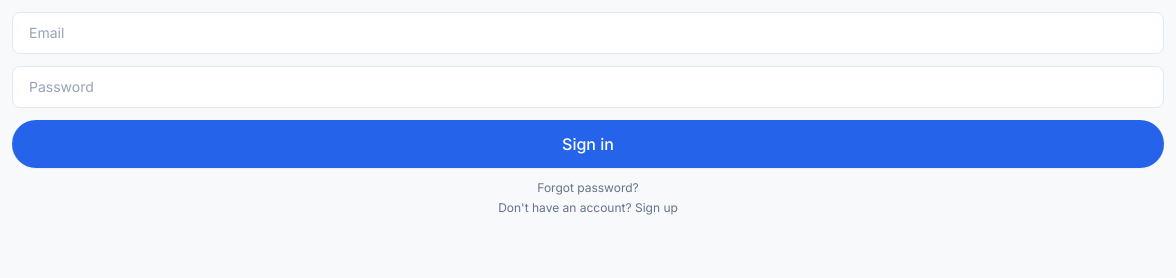
EmailPasswordForm › shows a generic message for unexpected error codes
The image size is (1176, 278).
Type "jane@example.com" into the field with placeholder "Email" at (588, 33), box [12,12,1164,54]
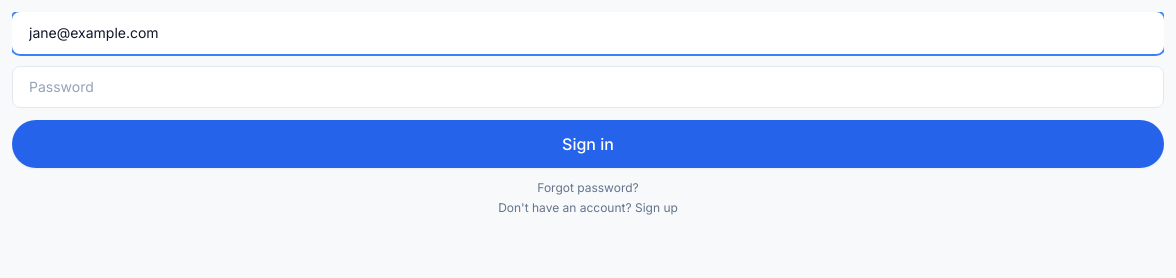
Type "secret123" into the password field with placeholder "Password" at (588, 87), box [12,66,1164,108]
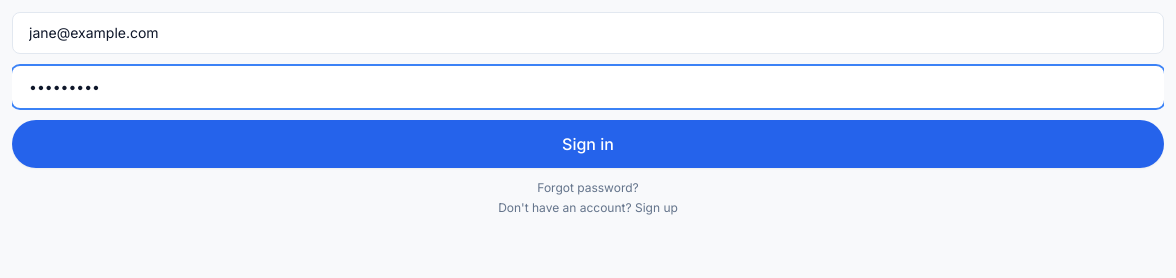
Click the button "Sign in" at (588, 144), box [12,120,1164,168]
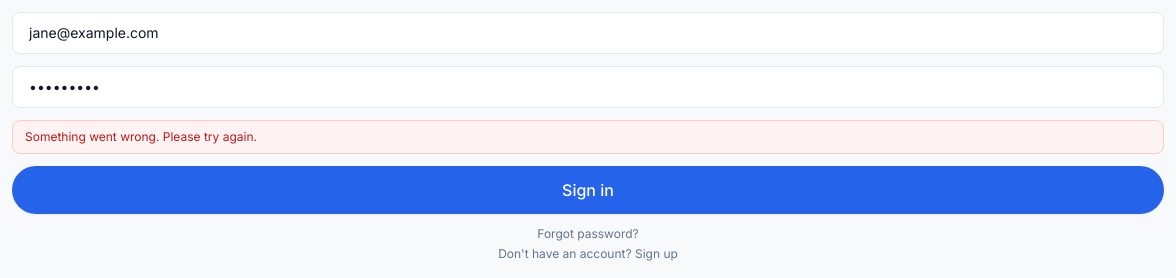
Check: the text "Something went wrong. Please try again." is shown, box [12,120,1164,154]
